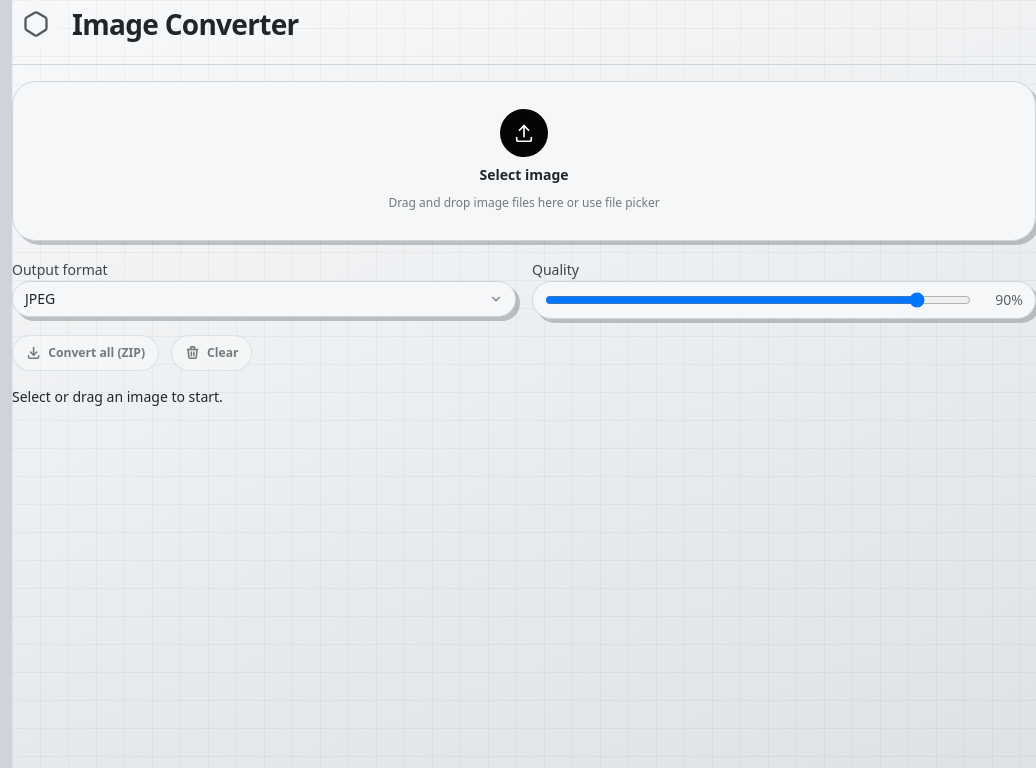
ImageConverterTool › disables quality only when PNG is selected
Expected: the slider named "90%" is enabled, [545,292,971,308]
Click the button with aria-label "Output format": (40, 298) [12,281,516,317]
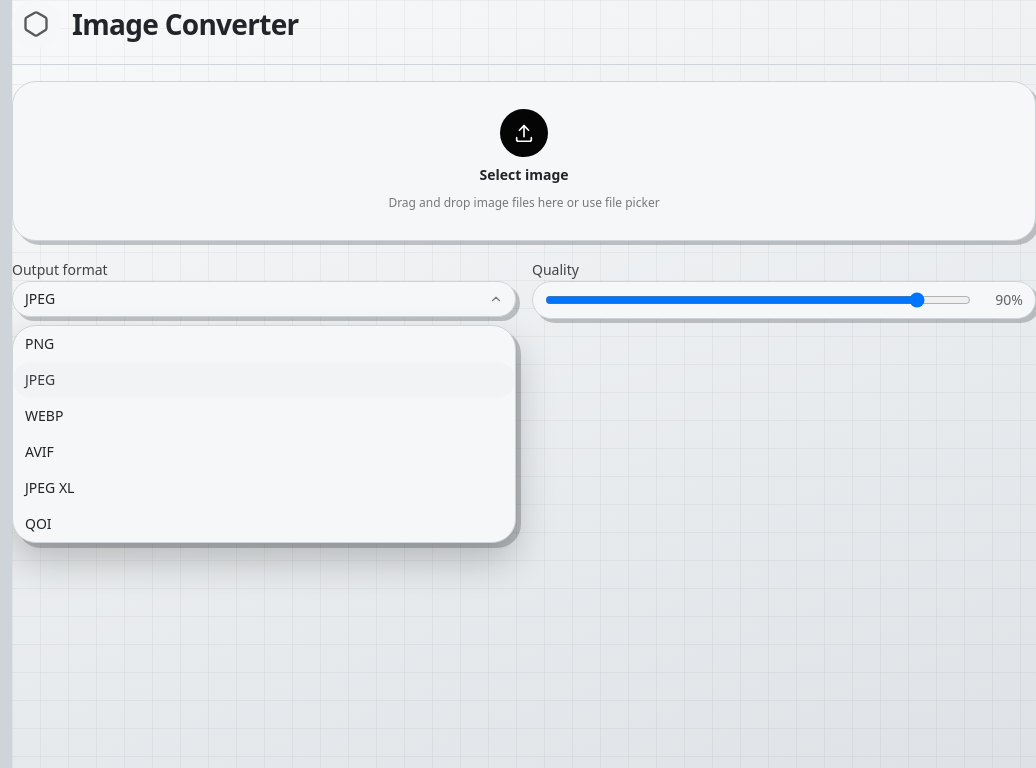
Click the option "PNG": (40, 344) [13,326,515,362]
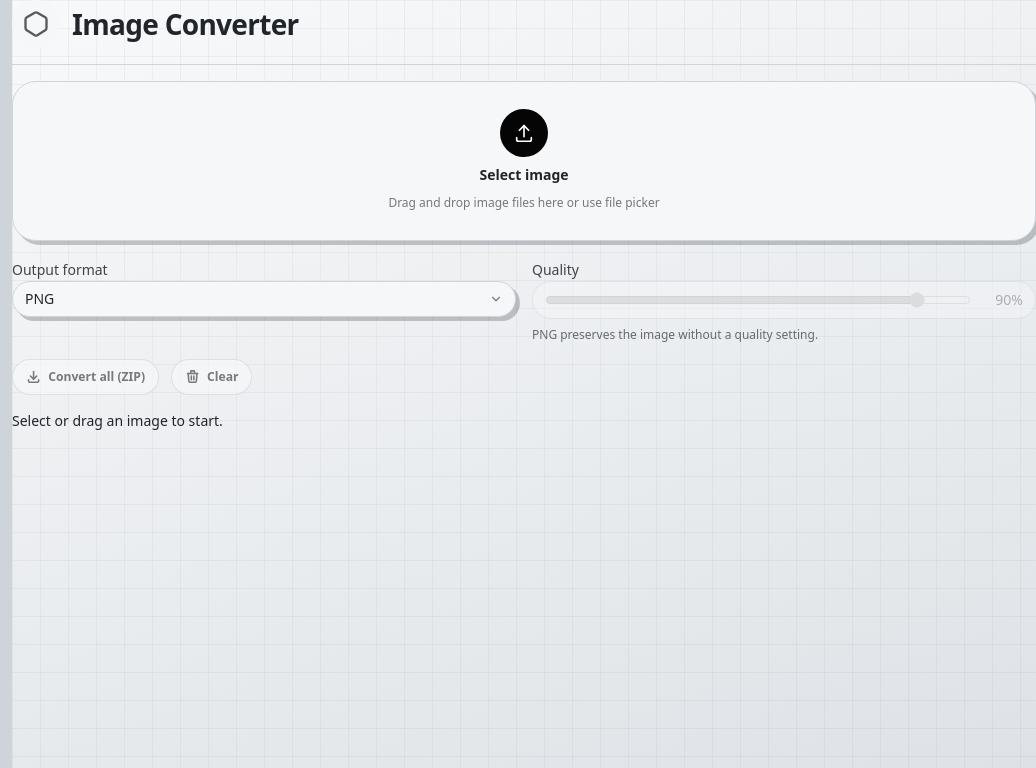
Expected: the slider named "90%" is disabled, [545,292,971,308]
Expected: the text "PNG preserves the image without a quality setting." is shown, [532,326,818,343]
